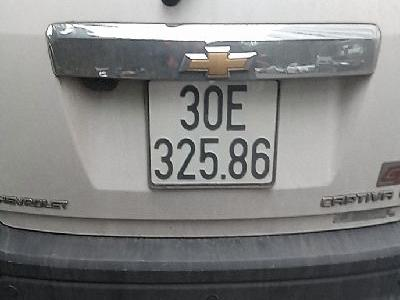lisence: (143, 75, 281, 190)
